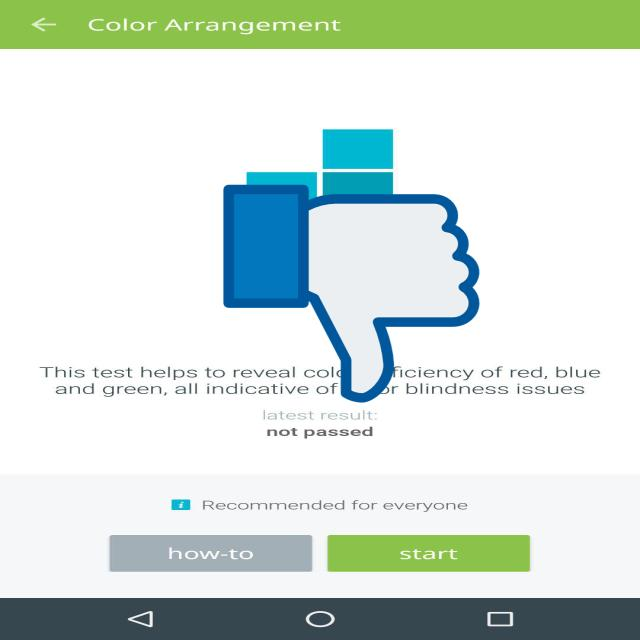obstruction: (223, 180, 480, 407)
